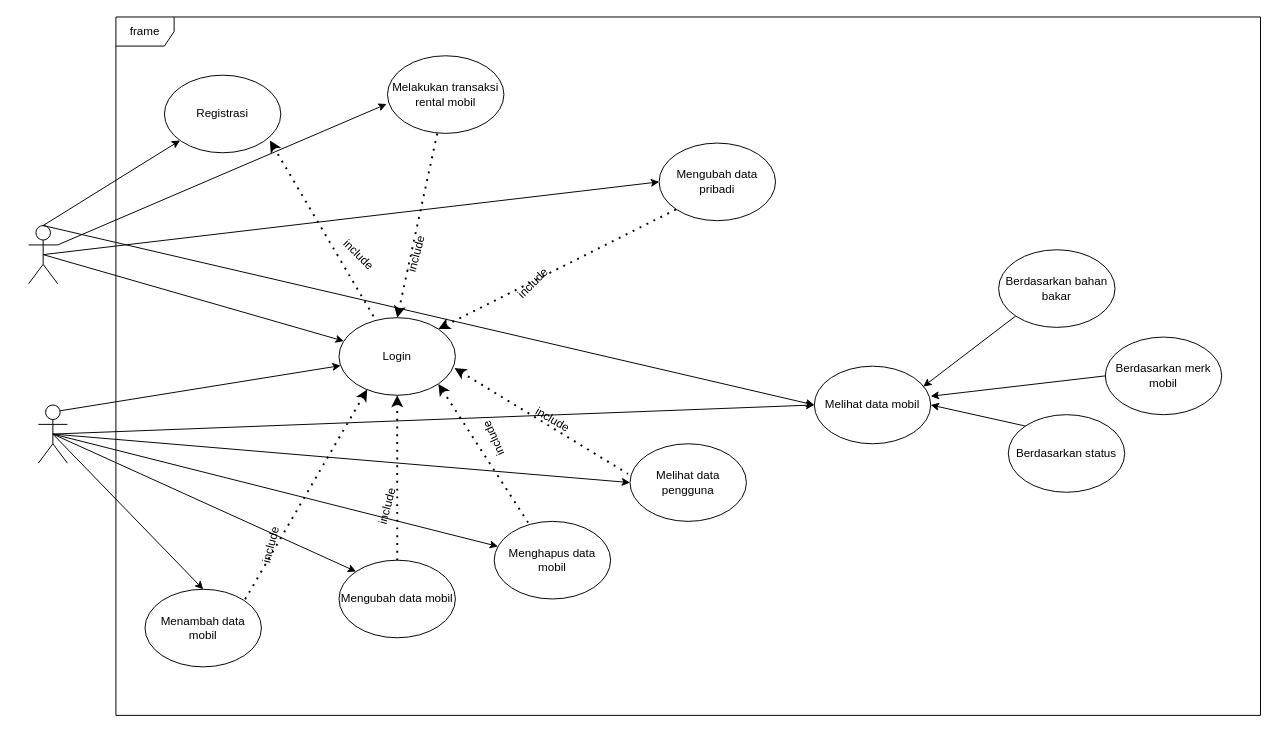
Some shapes in this 1277 by 732 pixel diagram are drawn without their labels. The centre of each missing label's shape, as x and y in pixels:
Administrator: the point at 52,433
Pengguna: the point at 43,254
